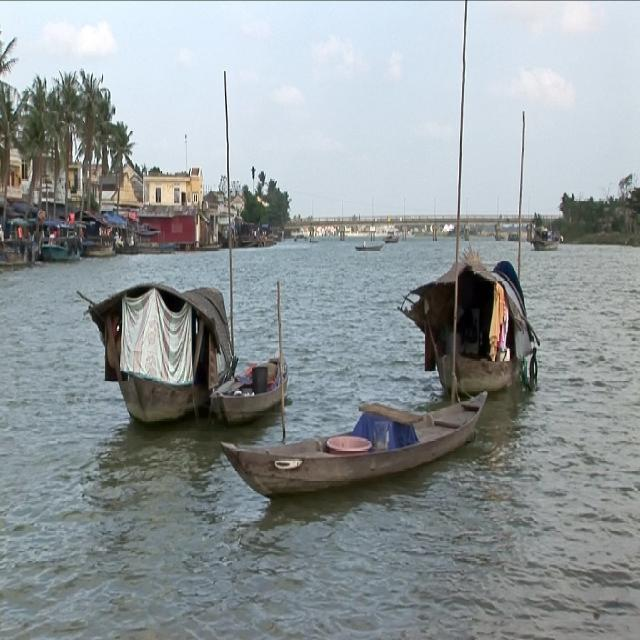boat: (212, 386, 500, 501), (75, 282, 242, 432), (398, 258, 542, 403), (216, 354, 289, 432), (44, 232, 84, 265), (532, 234, 570, 258), (350, 237, 387, 260), (383, 231, 400, 245)
